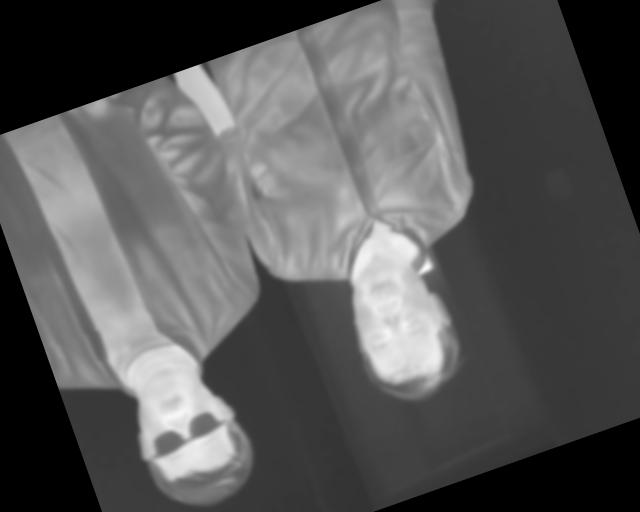face: (331, 243, 475, 416), (114, 348, 265, 512)
